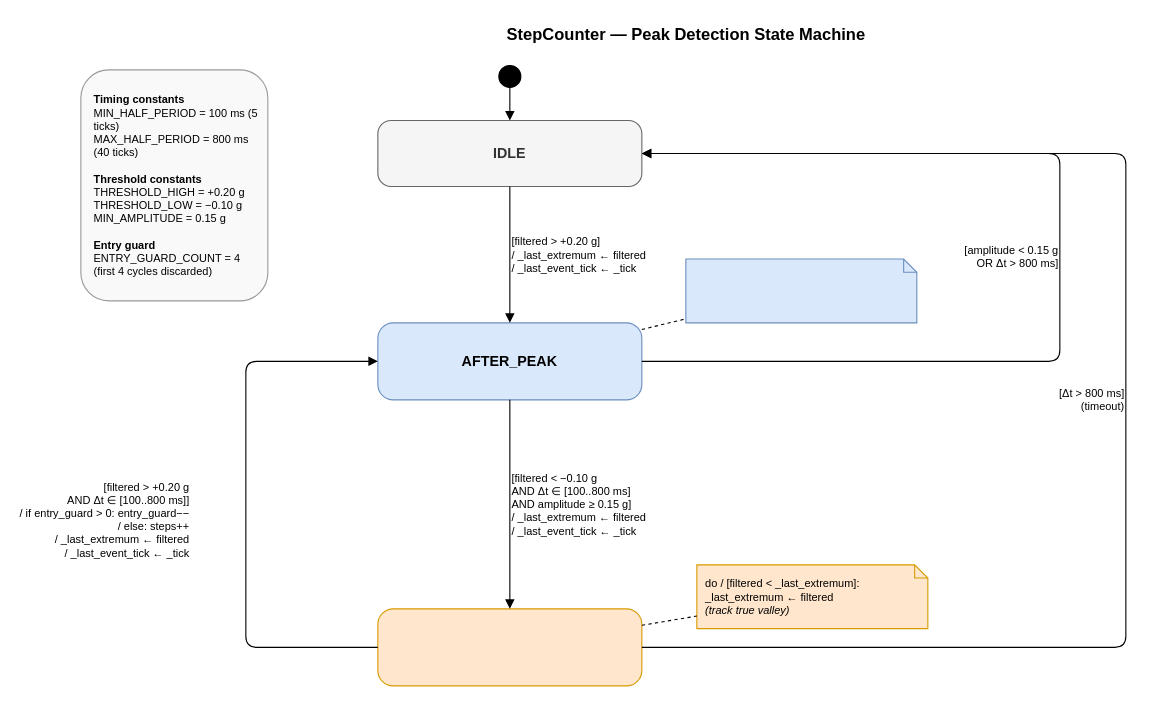
Some shapes in this 1154 by 705 pixel diagram are drawn without their labels. Here are the shapes that lost their labels. From the top down, the box of each, then its label:
(685, 258, 917, 323): do / [filtered > _last_extremum]: _last_extremum ← filtered (track true peak)
(377, 608, 642, 686): AFTER_VALLEY
